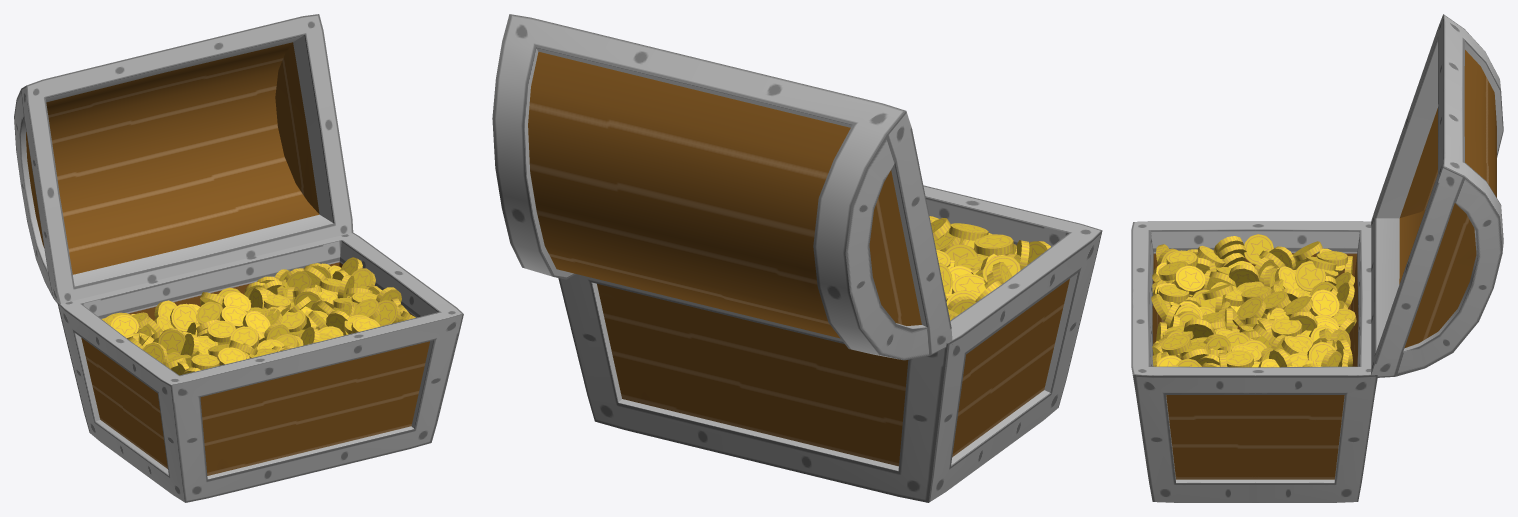
The model's file is chest.fbx.
3 views of the same model, side by side, from view 1: azimuth 30°, elevation 25°; view 2: azimuth 150°, elevation 25°; view 3: azimuth 270°, elevation 25° (orthographic). The views are drawn at different scales.
Parts seen in each view (by area): view 1: Chest_Top, Chest_Bottom, Coin.468; view 2: Chest_Top, Chest_Bottom, Coin.468; view 3: Chest_Bottom, Chest_Top, Coin.468.
Part boxes in pixels (left/top/right/bottom): Chest_Top: left=14, top=14, right=353, bottom=304; Chest_Bottom: left=57, top=232, right=463, bottom=502; Coin.468: left=102, top=257, right=415, bottom=375; Chest_Top: left=492, top=14, right=952, bottom=360; Chest_Bottom: left=558, top=185, right=1102, bottom=502; Coin.468: left=929, top=216, right=1050, bottom=320; Chest_Bottom: left=1131, top=221, right=1377, bottom=502; Chest_Top: left=1370, top=14, right=1503, bottom=378; Coin.468: left=1151, top=234, right=1356, bottom=367.
Bounding box in the file's own units: 1.25 × 1.32 × 1.27.
